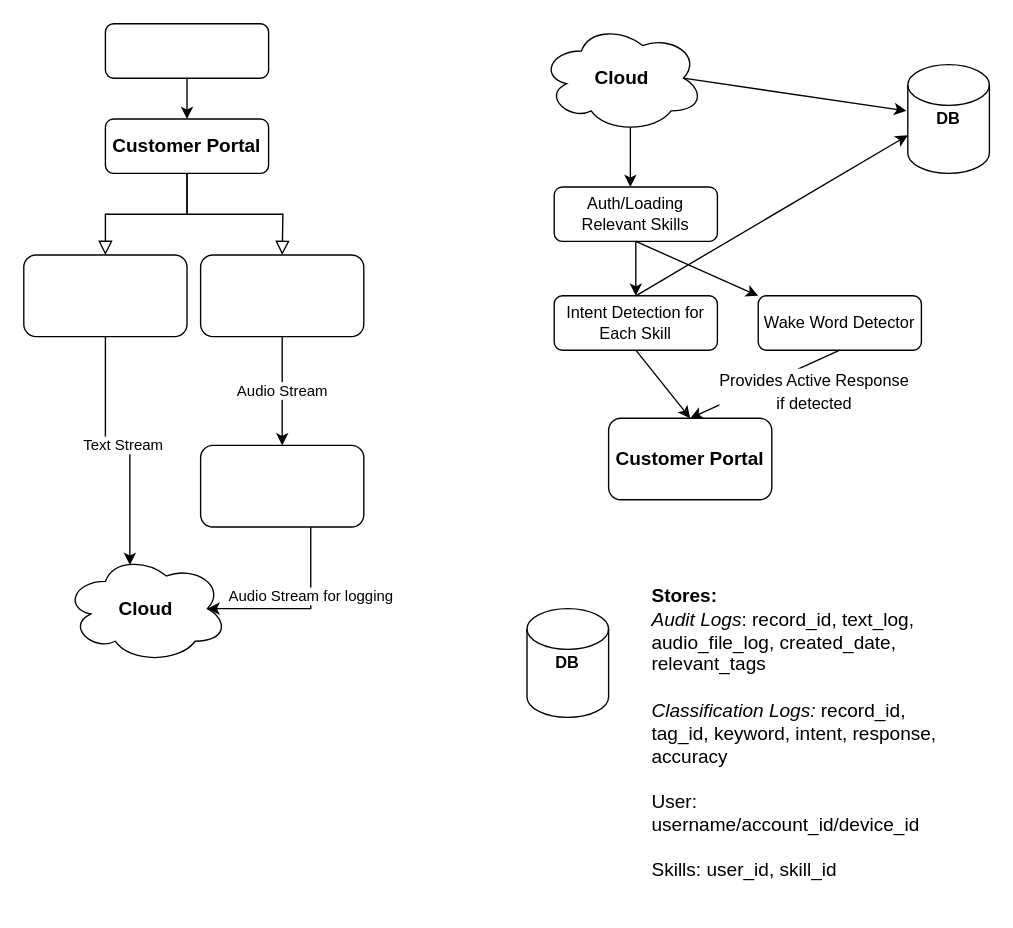
The diagram is 1013 pixels wide and 928 high, and some of its shapes have lost their labels. Here are the shapes that lost their labels. From the top down, the centre of each, then its label:
[186,50]: Customer Mic
[104,295]: VAD Speech to text via deepspeech
[281,295]: NoiseFiltered Raw Audio
[281,485]: InBuilt Fingerprinting
